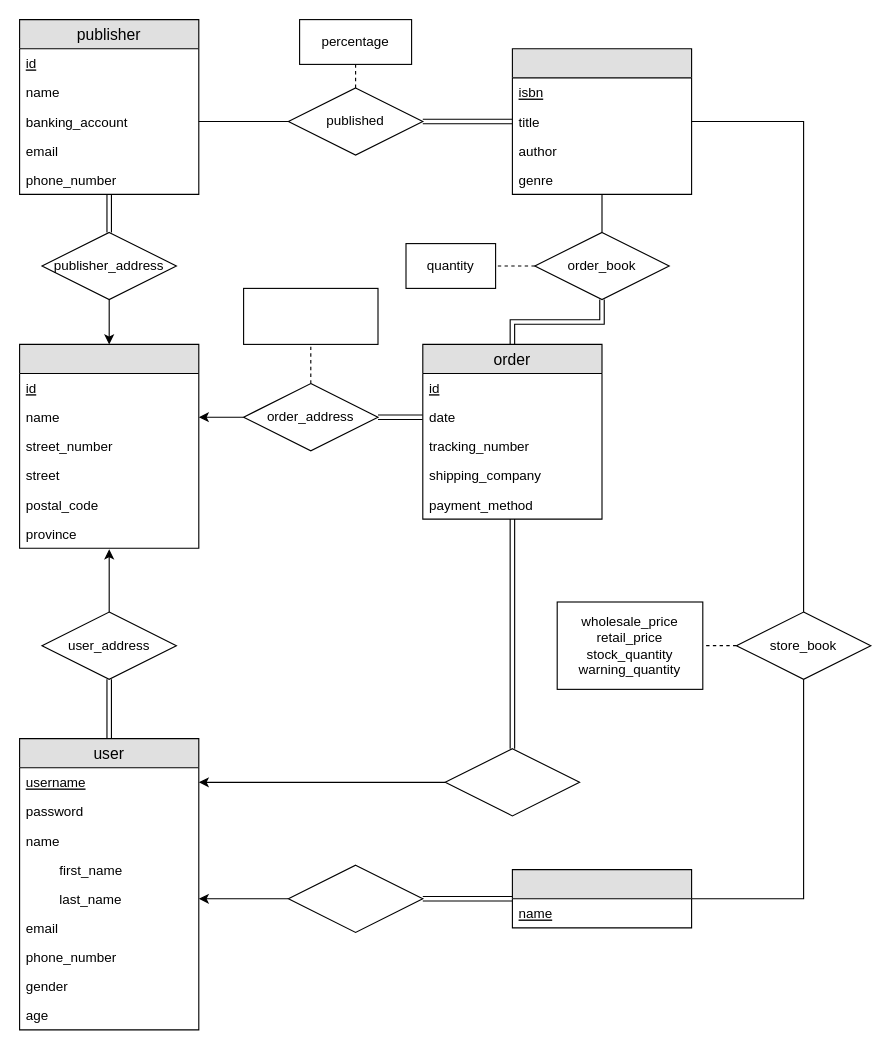
The diagram is 890 pixels wide and 1053 high, and some of its shapes have lost their labels. Here are the shapes that lost their labels. From the top down, the box of each, then its label:
(511, 48, 692, 194): book
(242, 287, 378, 344): billing_address shipping_address
(18, 343, 199, 548): address
(444, 748, 580, 816): ordered
(287, 864, 423, 932): owns
(511, 869, 692, 928): store
